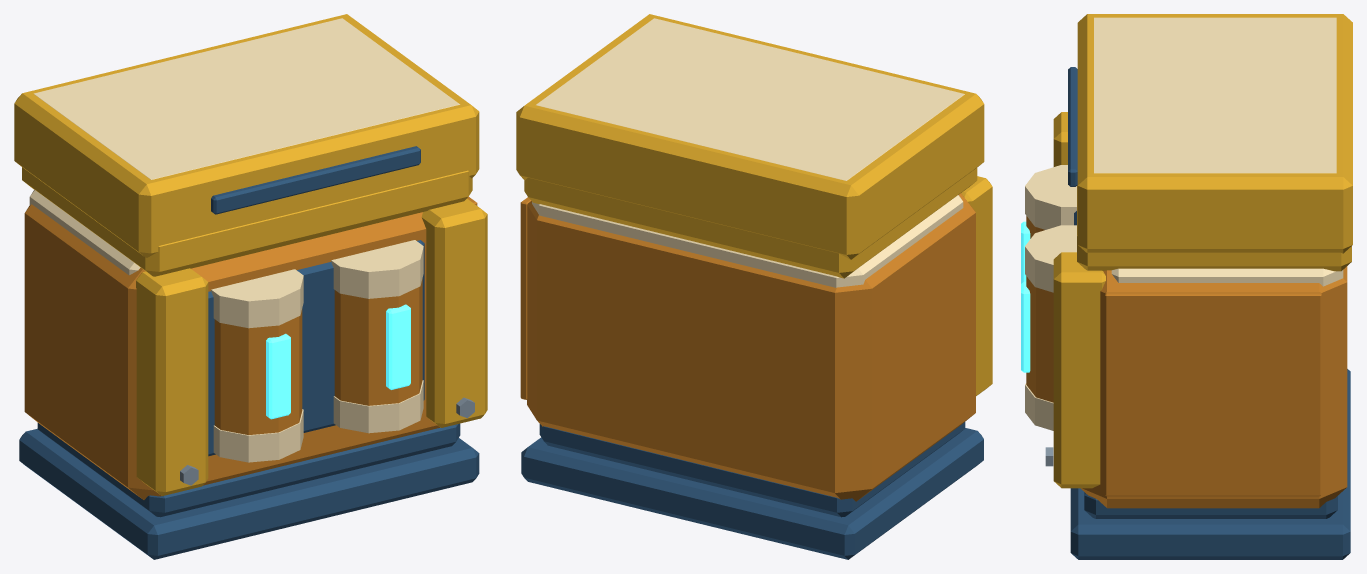
The model's file is cell.glb.
3 renders of one model, left to right at view 1: azimuth 30°, elevation 25°; view 2: azimuth 150°, elevation 25°; view 3: azimuth 270°, elevation 25°, orthographic. The views are drawn at different scales.
Parts seen in each view (by area): view 1: cell__CourierYellow, cell__Cream, cell__Ochre, cell__Cobalt, cell__CyanGlow, cell__Metal; view 2: cell__Ochre, cell__CourierYellow, cell__Cream, cell__Cobalt; view 3: cell__Ochre, cell__Cream, cell__CourierYellow, cell__Cobalt, cell__CyanGlow.
Boxes of the visible parts, x1,y1,x2,y2 form: cell__CourierYellow: (14, 14, 487, 496); cell__Cream: (29, 18, 459, 462); cell__Ochre: (24, 196, 477, 499); cell__Cobalt: (19, 146, 479, 559); cell__CyanGlow: (266, 304, 410, 419); cell__Metal: (180, 397, 474, 485); cell__Ochre: (520, 193, 975, 501); cell__CourierYellow: (516, 14, 992, 395); cell__Cream: (532, 18, 964, 287); cell__Cobalt: (521, 422, 983, 559); cell__Ochre: (1026, 216, 1347, 508); cell__Cream: (1025, 17, 1343, 430); cell__CourierYellow: (1053, 14, 1352, 488); cell__Cobalt: (1068, 67, 1350, 559); cell__CyanGlow: (1021, 221, 1030, 372).
Size of the model in its own units: 0.965 by 0.987 by 0.772.
